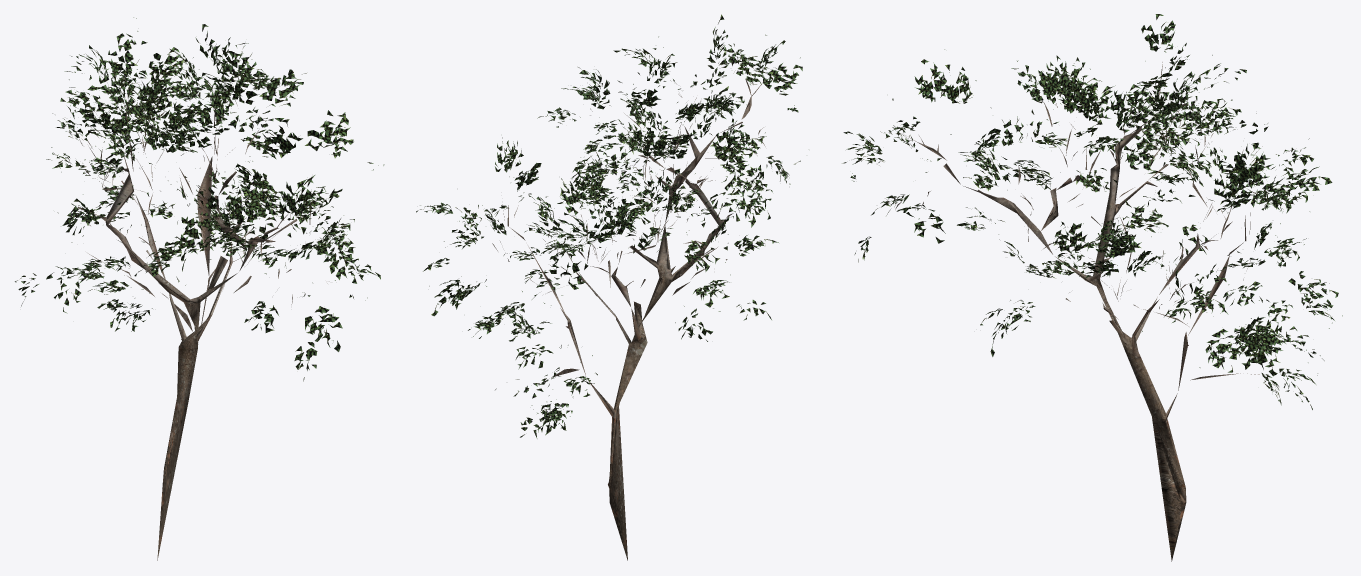
The model's file is tree_small_02.glb.
The picture shows the model from 3 angles, left to right: view 1: azimuth 30°, elevation 25°; view 2: azimuth 150°, elevation 25°; view 3: azimuth 270°, elevation 25°; orthographic projection. The views are drawn at different scales.
Visible parts, largest first — view 1: tree_small_02_LOD0; view 2: tree_small_02_LOD0; view 3: tree_small_02_LOD0.
Part boxes in pixels (<box>): tree_small_02_LOD0: <box>15,17,384,560</box>; tree_small_02_LOD0: <box>416,14,802,560</box>; tree_small_02_LOD0: <box>842,14,1342,561</box>.
Size of the model in its own units: 2.89 by 4.53 by 4.07.
Materials: 3 (3 with a texture image).
